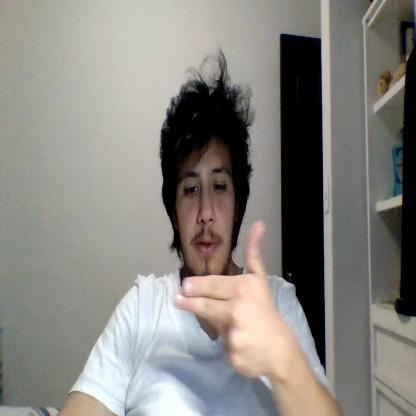H: (171, 220, 277, 378)
